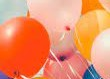Balloon: (1, 16, 50, 79), (26, 1, 82, 32), (91, 28, 110, 79)
